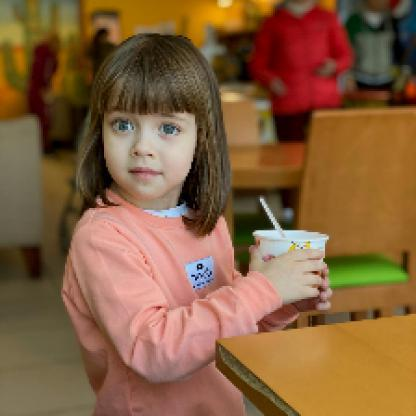child: (59, 33, 336, 416)
